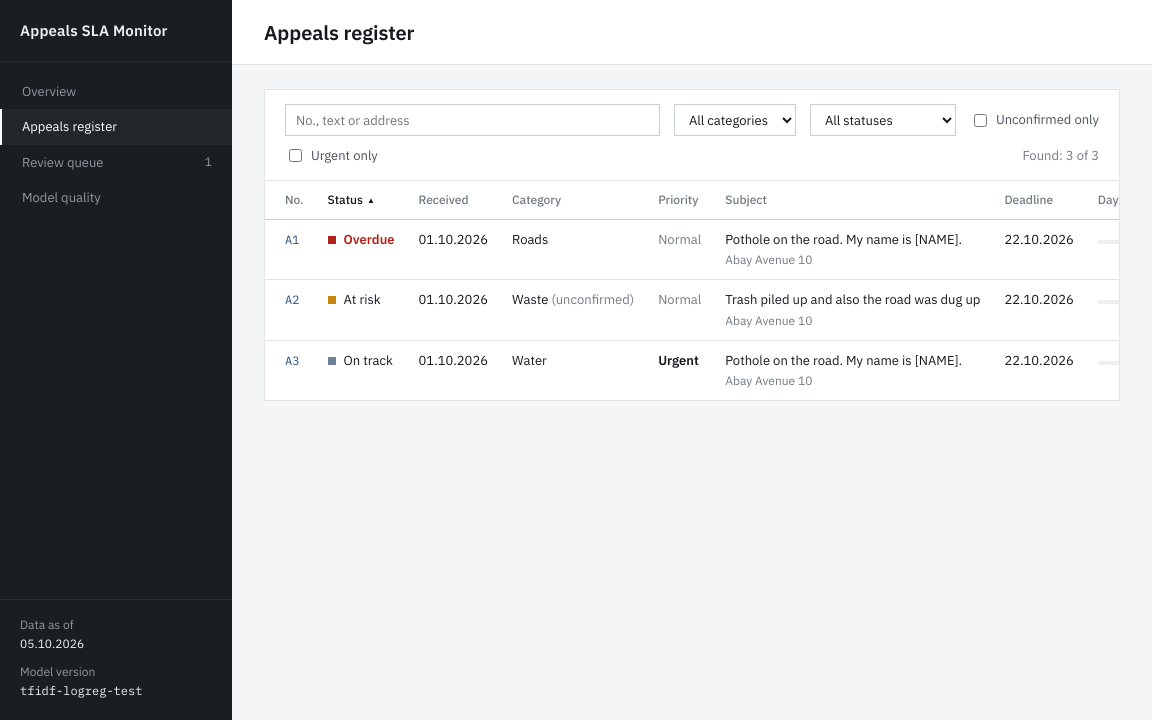
Test: App › lets an operator close an open appeal after confirming
The image size is (1152, 720).
Click the button "A1". click: (292, 240)
box: [285,230,299,248]
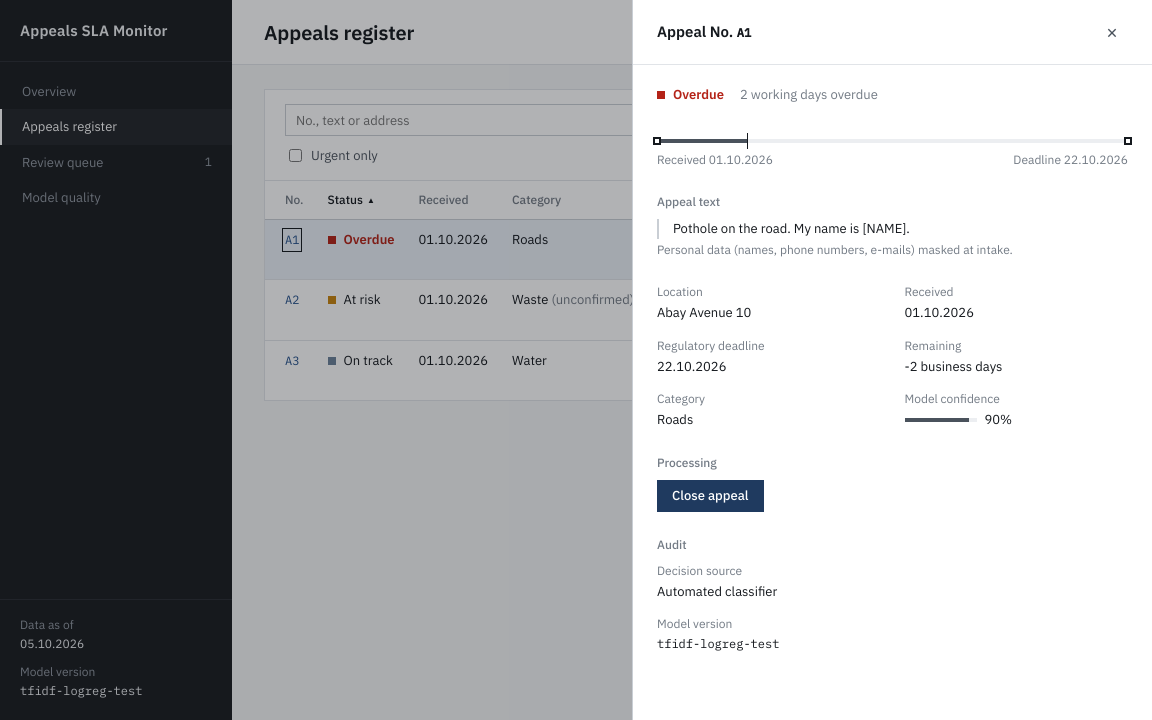
Click the button "Close appeal". click: (710, 496)
box: [657,480,764,512]
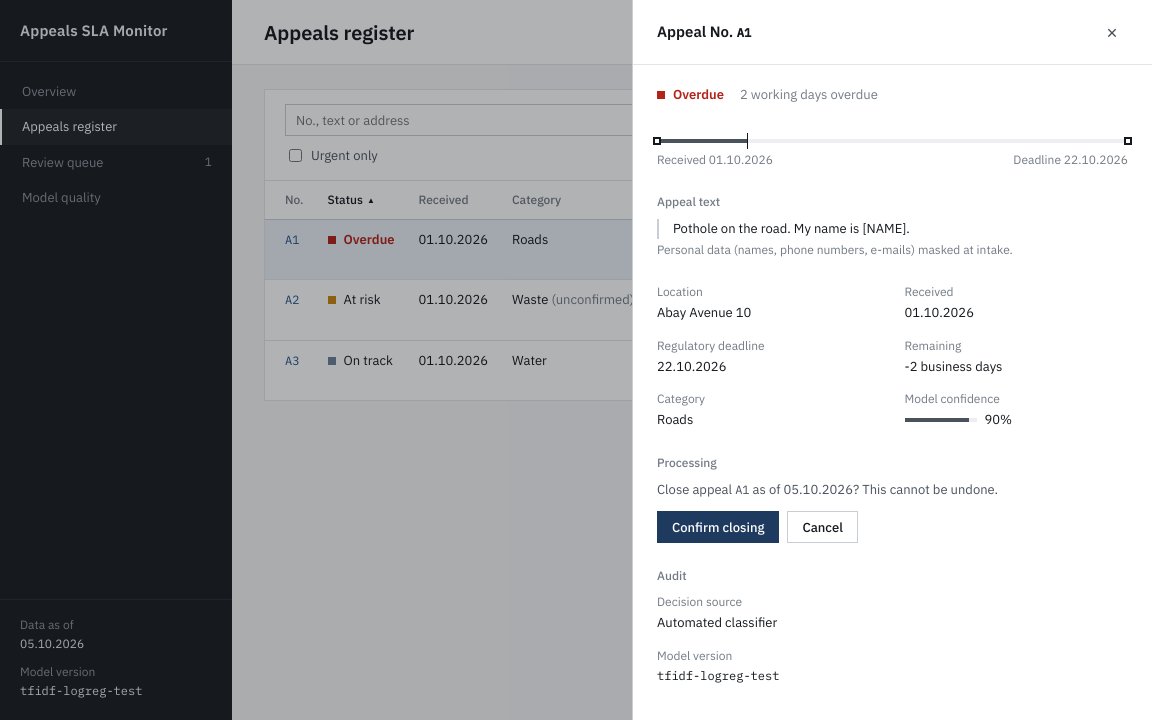
Click the button "Confirm closing". click: (718, 527)
box: [657,511,780,543]
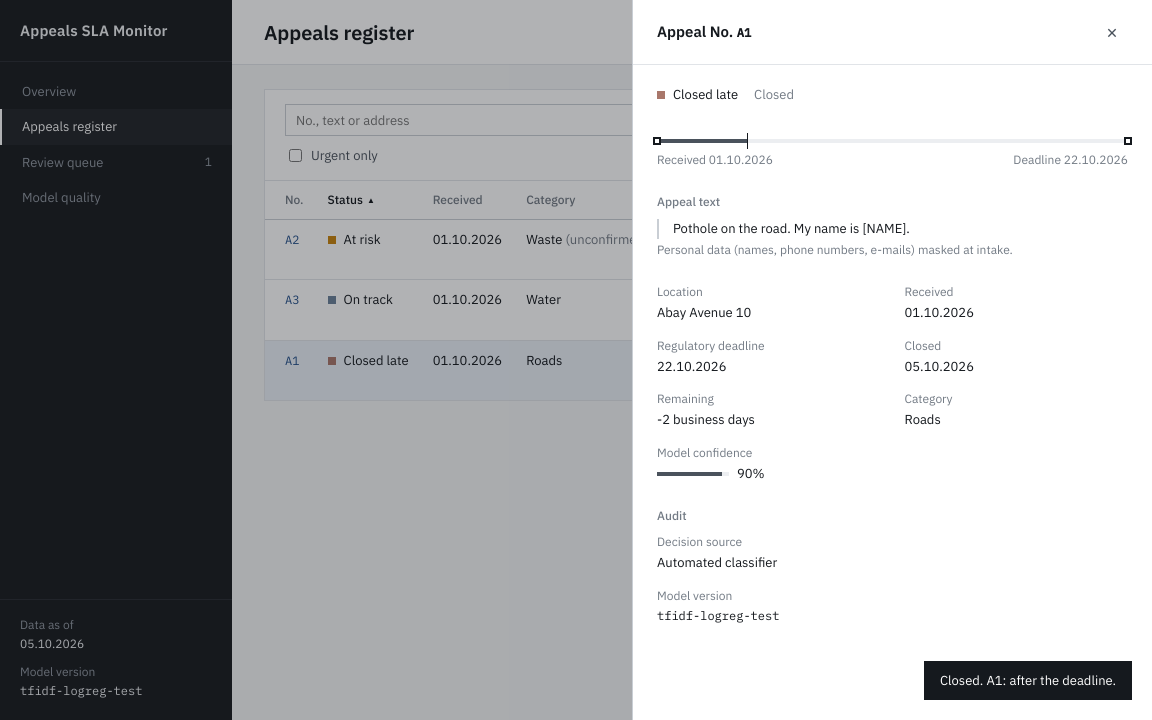
Now the message shows "Closed. A1", box [940,672,1116,688]
Now the text "Closed late" is shown, box [657,85,738,104]
Now the button "Close appeal" is gone
